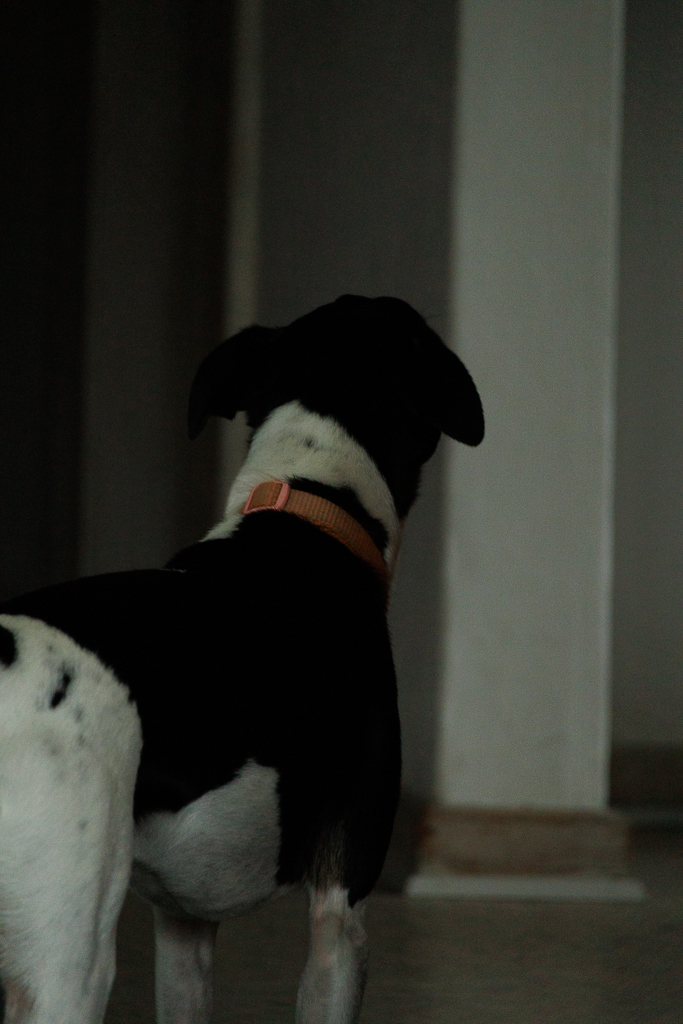Dog: (0, 273, 508, 1024)
